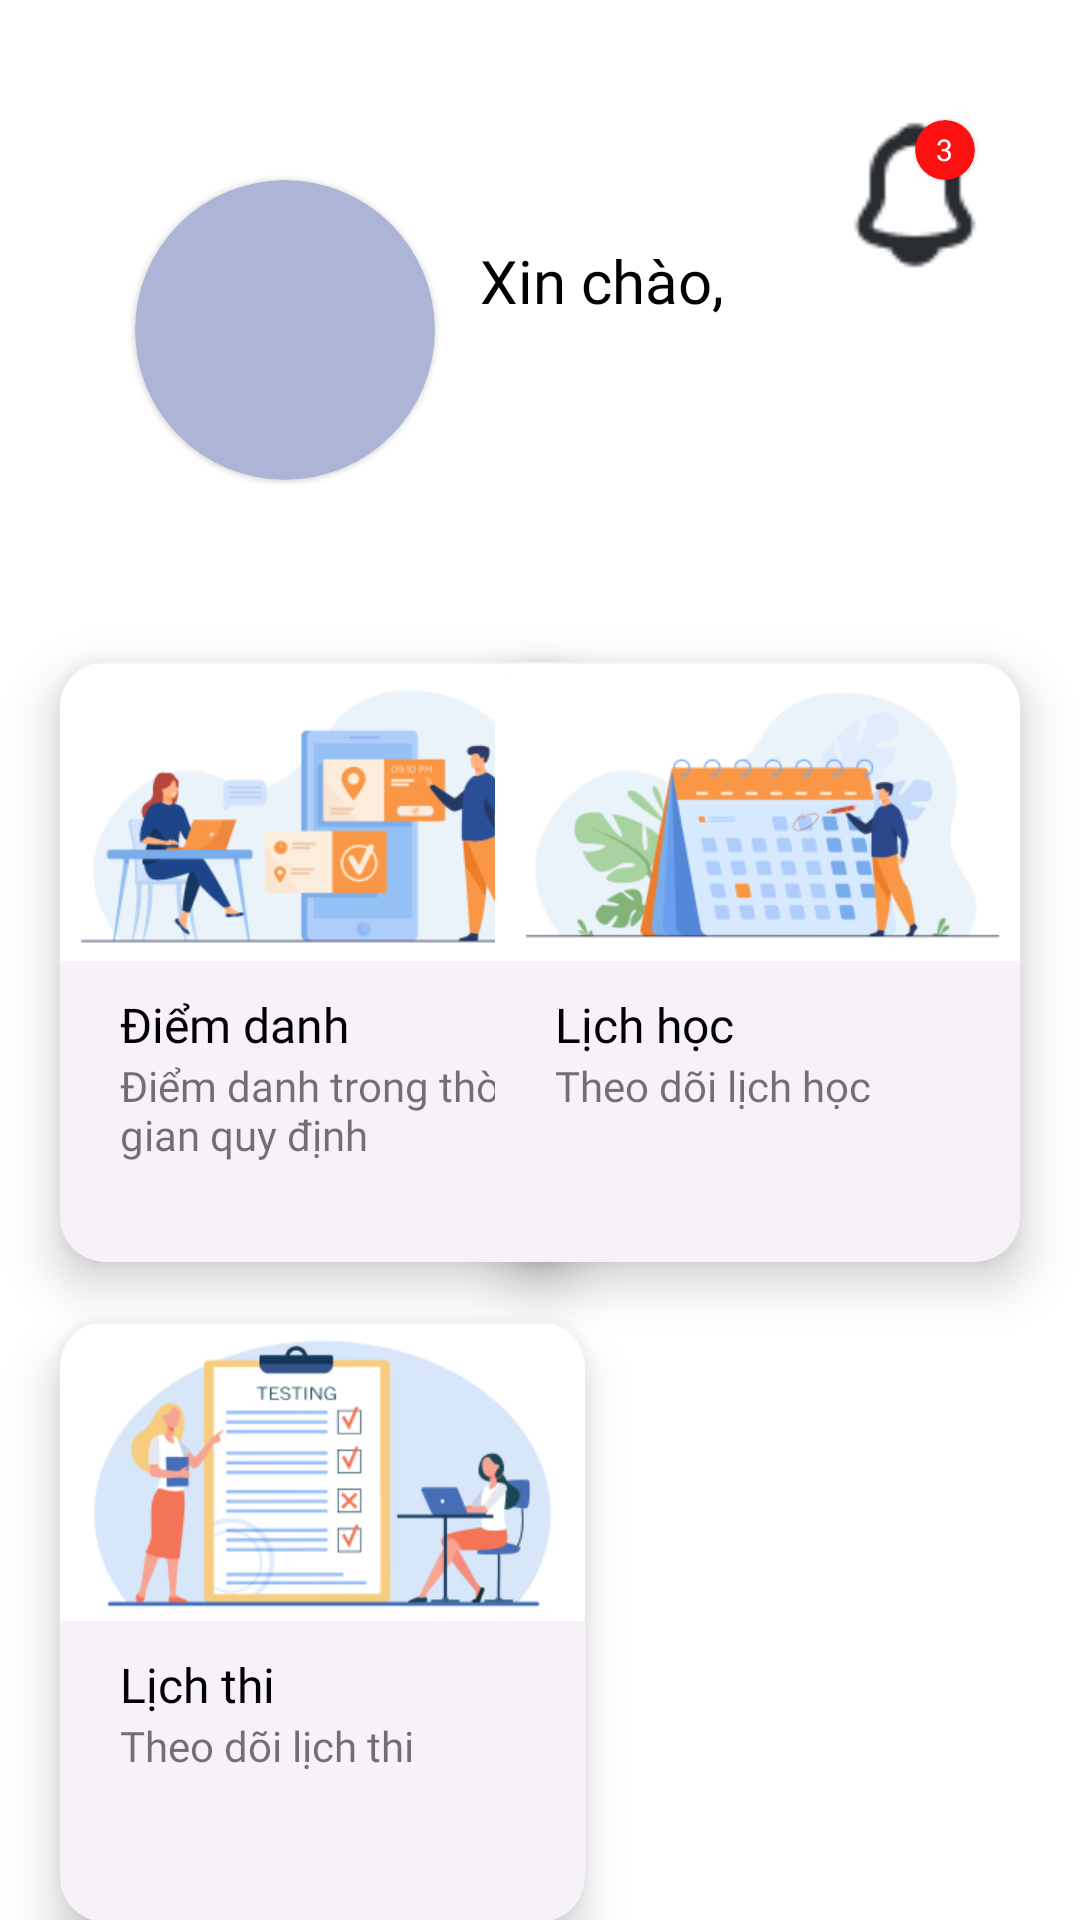

Locate icon controls on the screen. Image size 1080px x 1920px, boxes as [left=x1, top=y1, right=x2, bottom=y2].
notification: [left=854, top=120, right=976, bottom=268]
